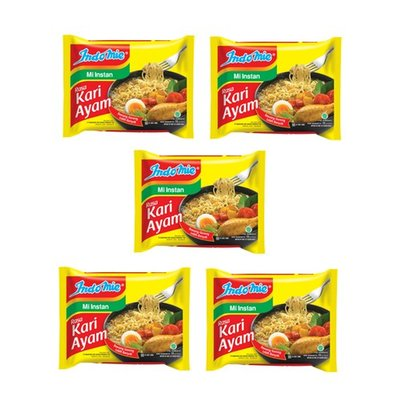indomie kari ayam: (47, 256, 197, 380), (53, 27, 196, 141), (124, 146, 272, 254), (204, 28, 351, 136), (203, 265, 349, 368)
